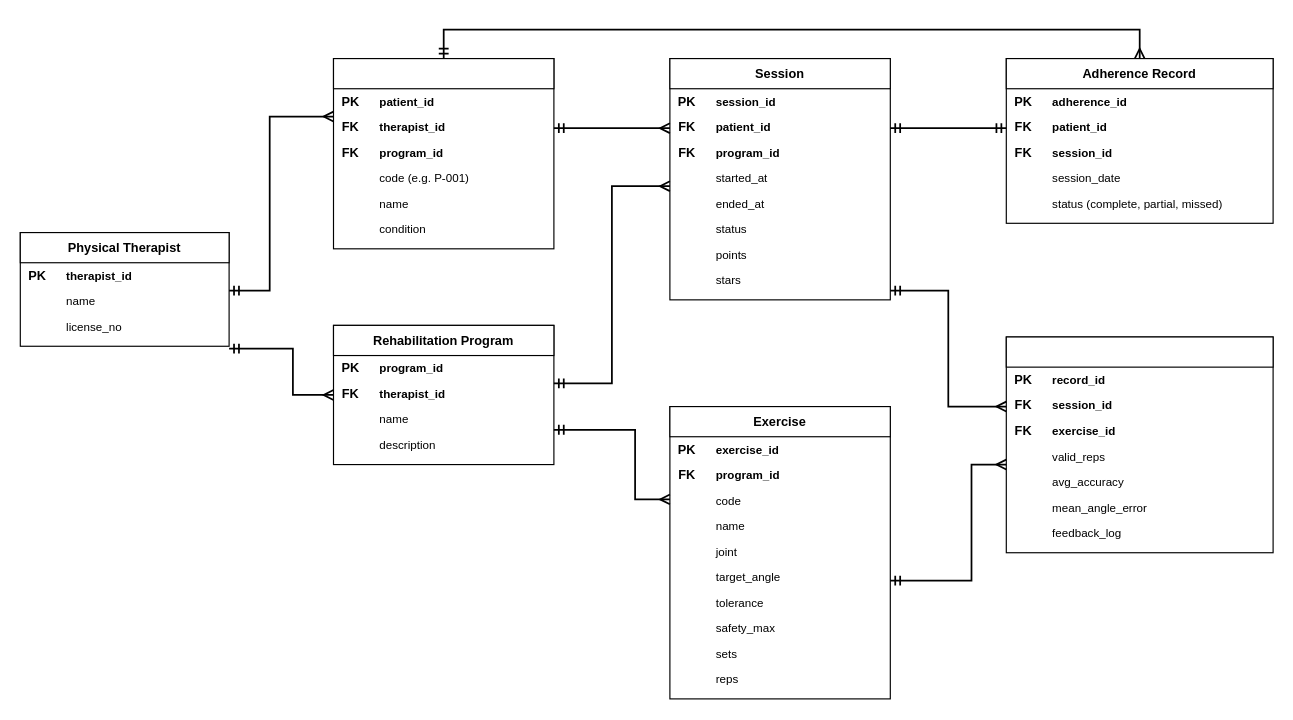
Some shapes in this 1293 by 720 pixel diagram are drawn without their labels. Each missing label, with the centre of its shape:
Patient: point (443, 73)
Performance Record: point (1139, 351)
